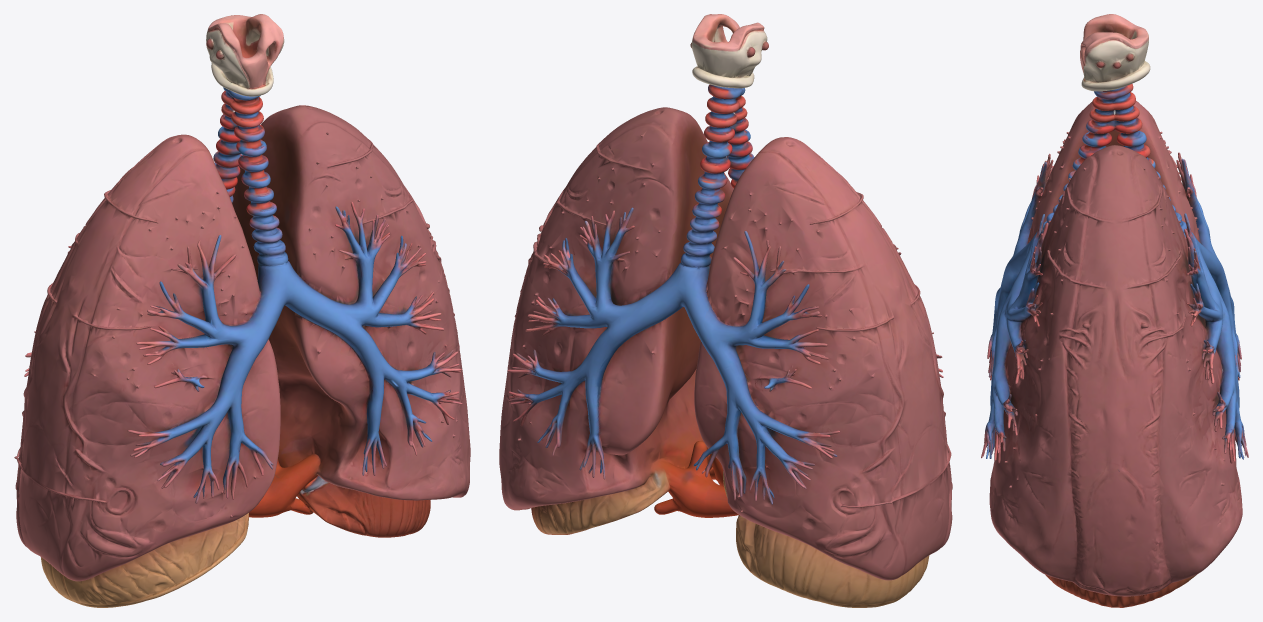
The model's file is lungs-v2.glb.
The picture shows the model from 3 angles, left to right: view 1: azimuth 30°, elevation 25°; view 2: azimuth 150°, elevation 25°; view 3: azimuth 270°, elevation 25°; orthographic projection. The views are drawn at different scales.
Parts seen in each view (by area): view 1: tripo_node_7b5478d9-c817-41f1-92e0-cf09e877b5b3; view 2: tripo_node_7b5478d9-c817-41f1-92e0-cf09e877b5b3; view 3: tripo_node_7b5478d9-c817-41f1-92e0-cf09e877b5b3.
Part boxes in pixels (x1=…): tripo_node_7b5478d9-c817-41f1-92e0-cf09e877b5b3: x1=14, y1=14, x2=470, y2=607; tripo_node_7b5478d9-c817-41f1-92e0-cf09e877b5b3: x1=499, y1=14, x2=952, y2=607; tripo_node_7b5478d9-c817-41f1-92e0-cf09e877b5b3: x1=981, y1=14, x2=1248, y2=607.
Size of the model in its own units: 0.8071 by 1 by 0.48.
Materials: 1 (1 with a texture image).
